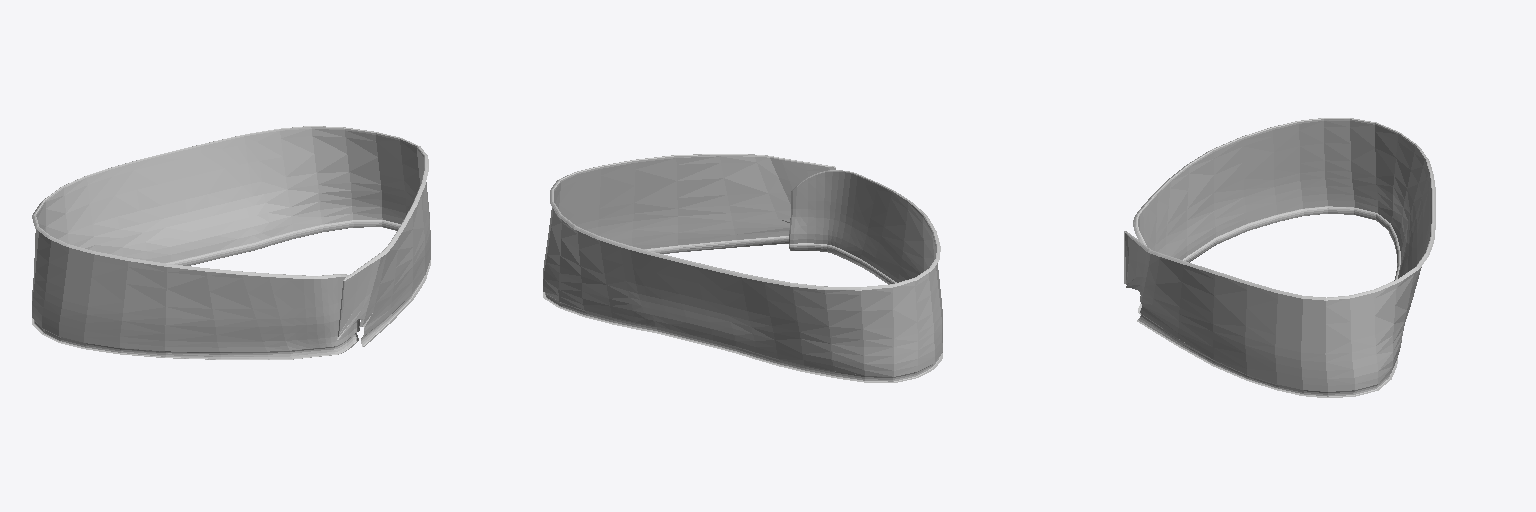
File: Collar_inner.obj
3 views of the same model, side by side, from view 1: azimuth 30°, elevation 25°; view 2: azimuth 150°, elevation 25°; view 3: azimuth 270°, elevation 25° (orthographic).
Parts seen in each view (by area): view 1: Object007.001; view 2: Object007.001; view 3: Object007.001.
Part boxes in pixels (bbox=[...]): Object007.001: bbox=[32, 126, 430, 359]; Object007.001: bbox=[543, 154, 942, 382]; Object007.001: bbox=[1124, 118, 1435, 397].
Bounding box in the file's own units: 18.88 × 4.77 × 13.42.